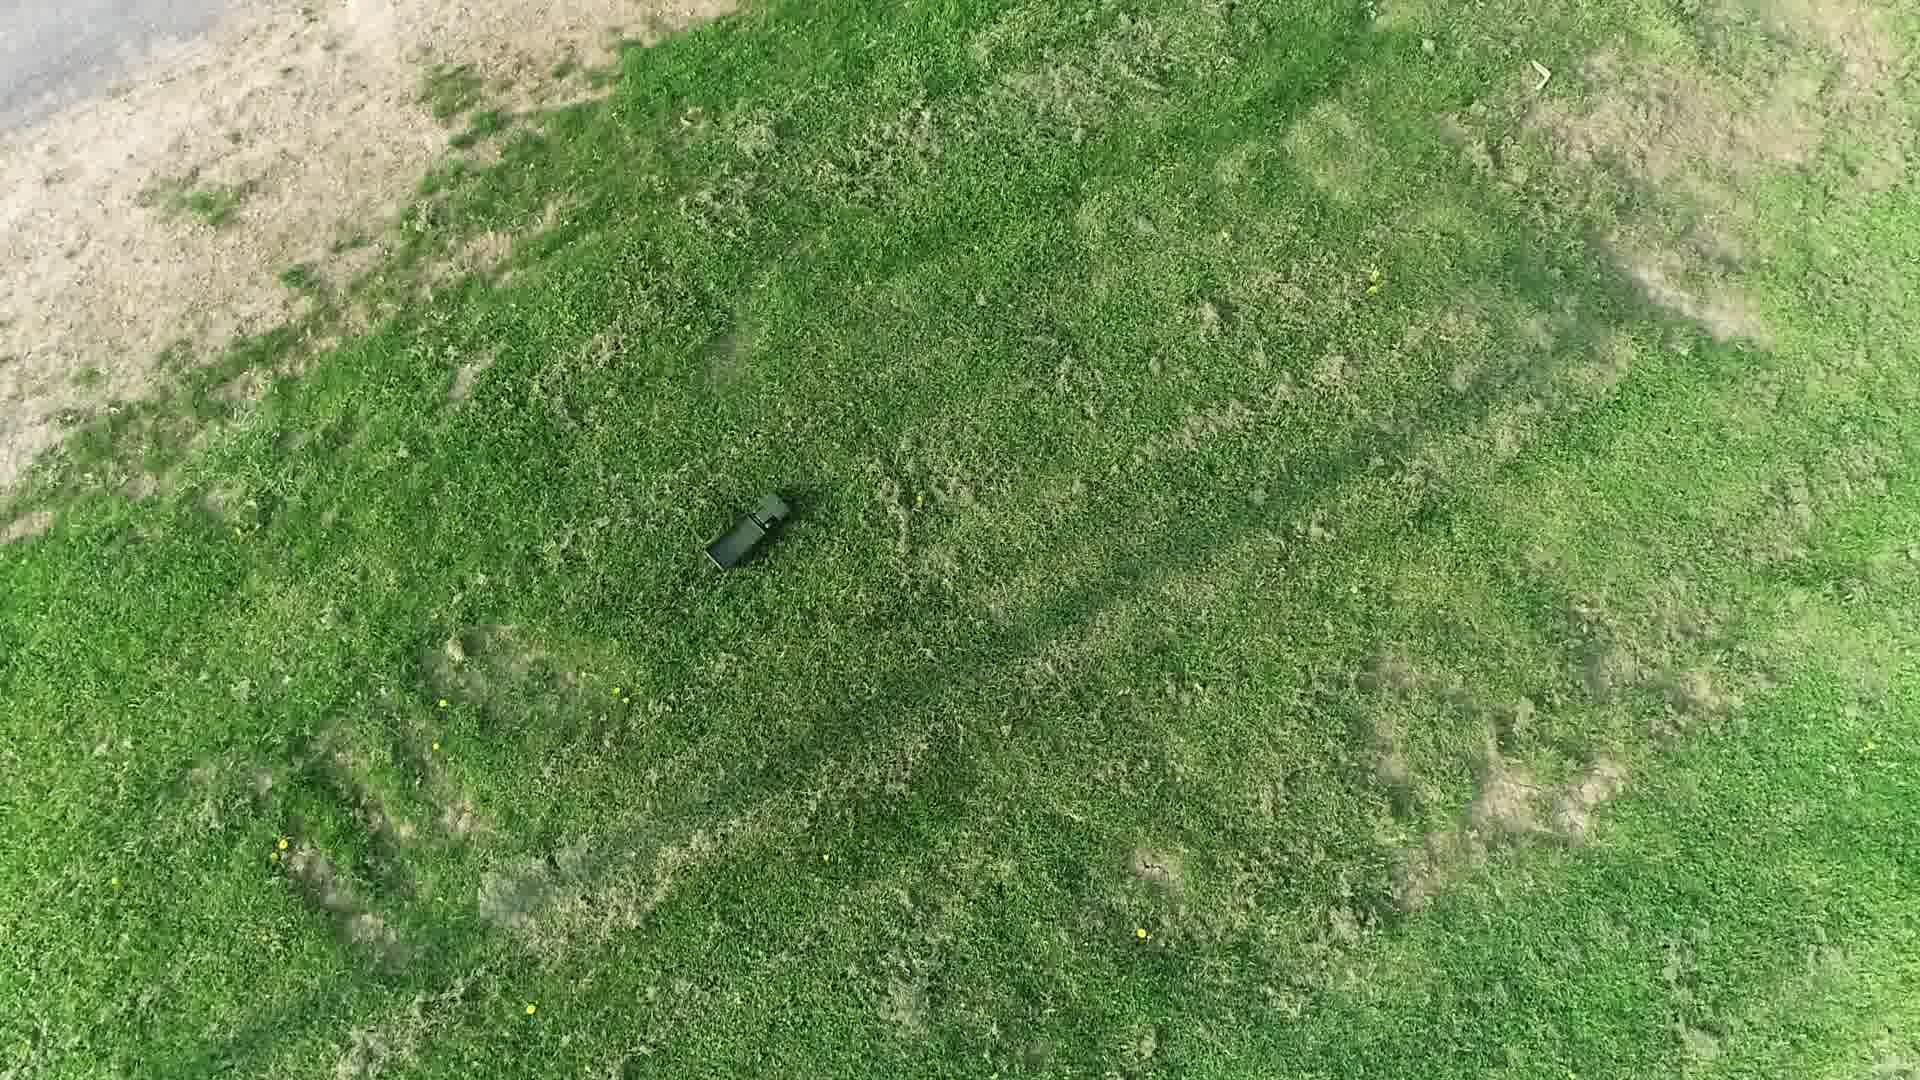transporter9: (702, 487, 800, 578)
